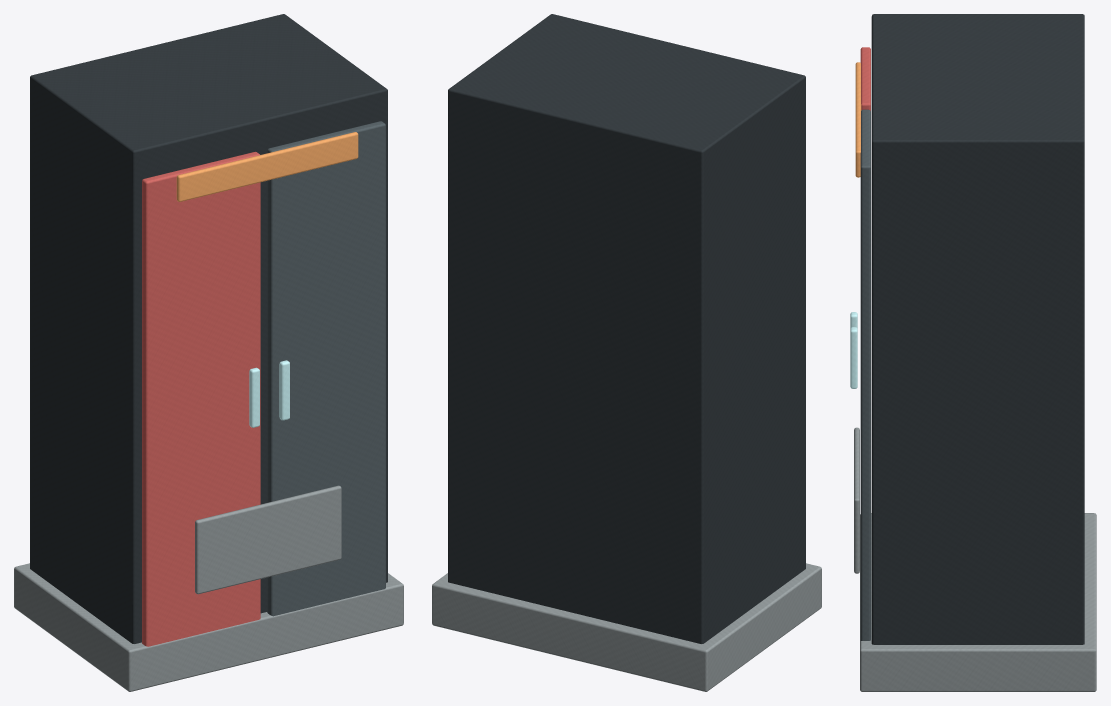
Rendered from ChemicalStorageLocker.glb.
The picture shows the model from 3 angles, left to right: view 1: azimuth 30°, elevation 25°; view 2: azimuth 150°, elevation 25°; view 3: azimuth 270°, elevation 25°; orthographic projection. The views are drawn at different scales.
Visible parts, largest first — view 1: ChemicalStorageLocker_Mesh; view 2: ChemicalStorageLocker_Mesh; view 3: ChemicalStorageLocker_Mesh.
Boxes of the visible parts, x1,y1,x2,y2 form: ChemicalStorageLocker_Mesh: (14, 14, 403, 691); ChemicalStorageLocker_Mesh: (432, 14, 821, 691); ChemicalStorageLocker_Mesh: (850, 14, 1096, 691).
Bounding box in the file's own units: 1.1 × 2.04 × 0.8325.
6 materials, 6 textured.
